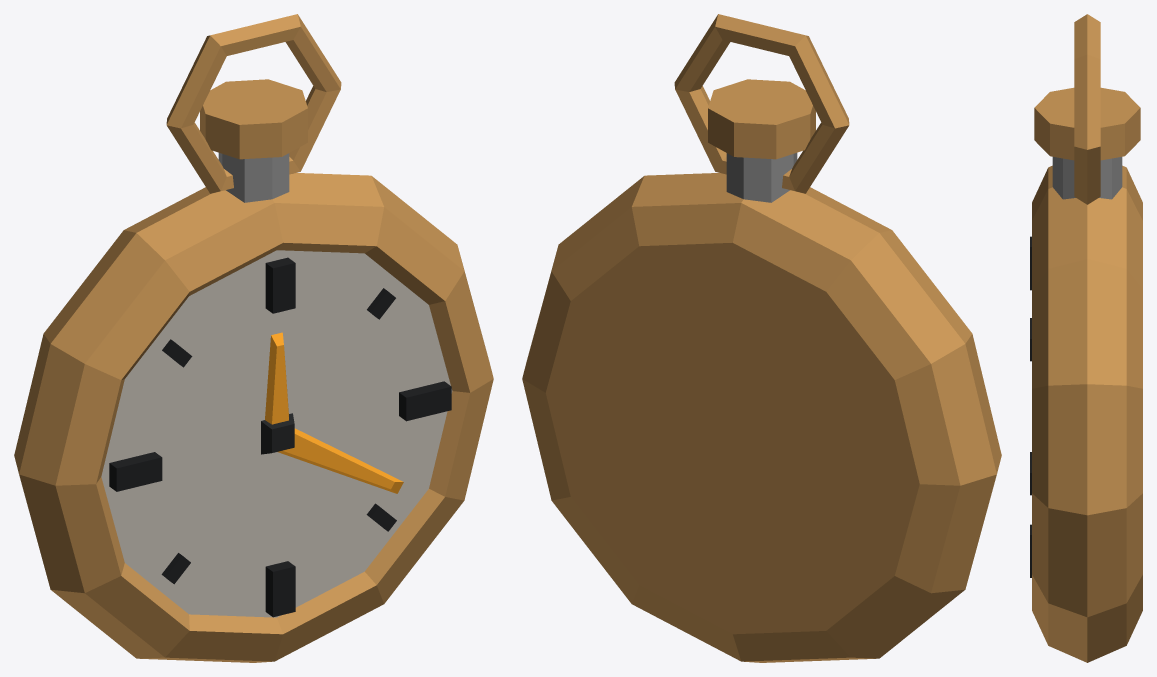
The model's file is SM_Icon_Watch_01.fbx.
3 views of the same model, side by side, from view 1: azimuth 30°, elevation 25°; view 2: azimuth 150°, elevation 25°; view 3: azimuth 270°, elevation 25° (orthographic). The views are drawn at different scales.
Visible parts, largest first — view 1: SM_Icon_Watch_01; view 2: SM_Icon_Watch_01; view 3: SM_Icon_Watch_01.
Boxes of the visible parts, bbox=[...] form: SM_Icon_Watch_01: bbox=[14, 14, 493, 662]; SM_Icon_Watch_01: bbox=[522, 14, 1001, 662]; SM_Icon_Watch_01: bbox=[1030, 14, 1142, 662].
Bounding box in the file's own units: 46.4 × 60.24 × 10.18.
